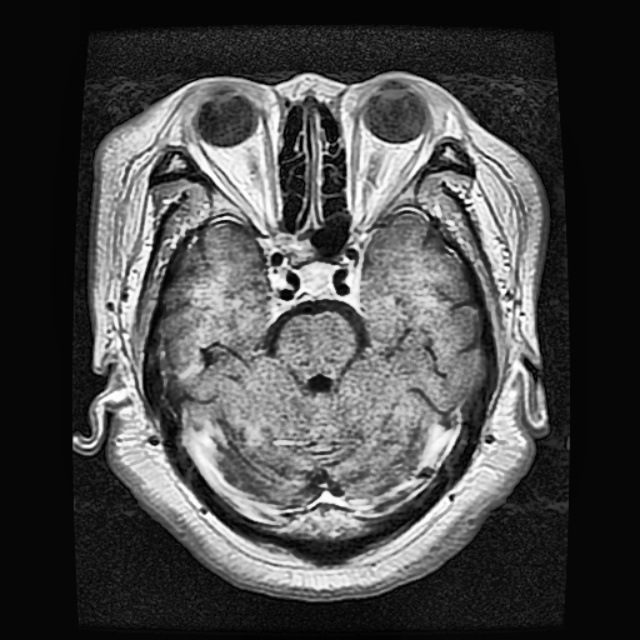Pituitary: (300, 262, 333, 294)
